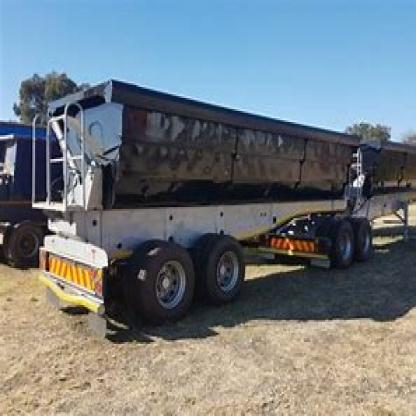dump_truck: (32, 63, 415, 340)
